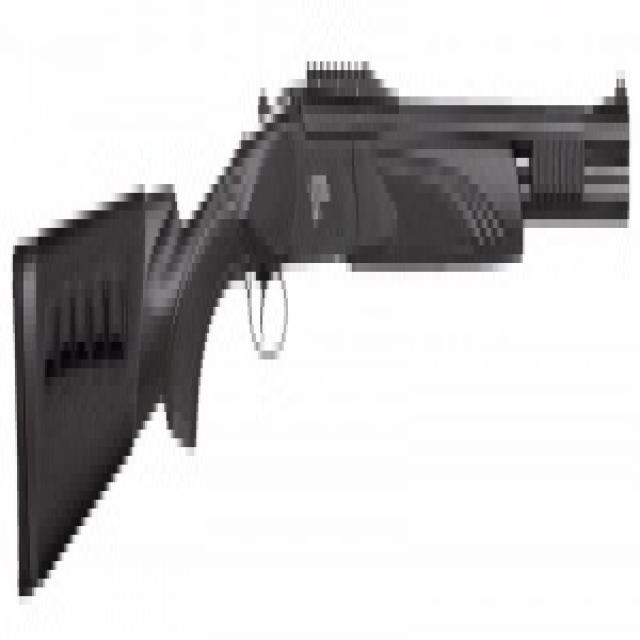rifle: (11, 51, 635, 605)
